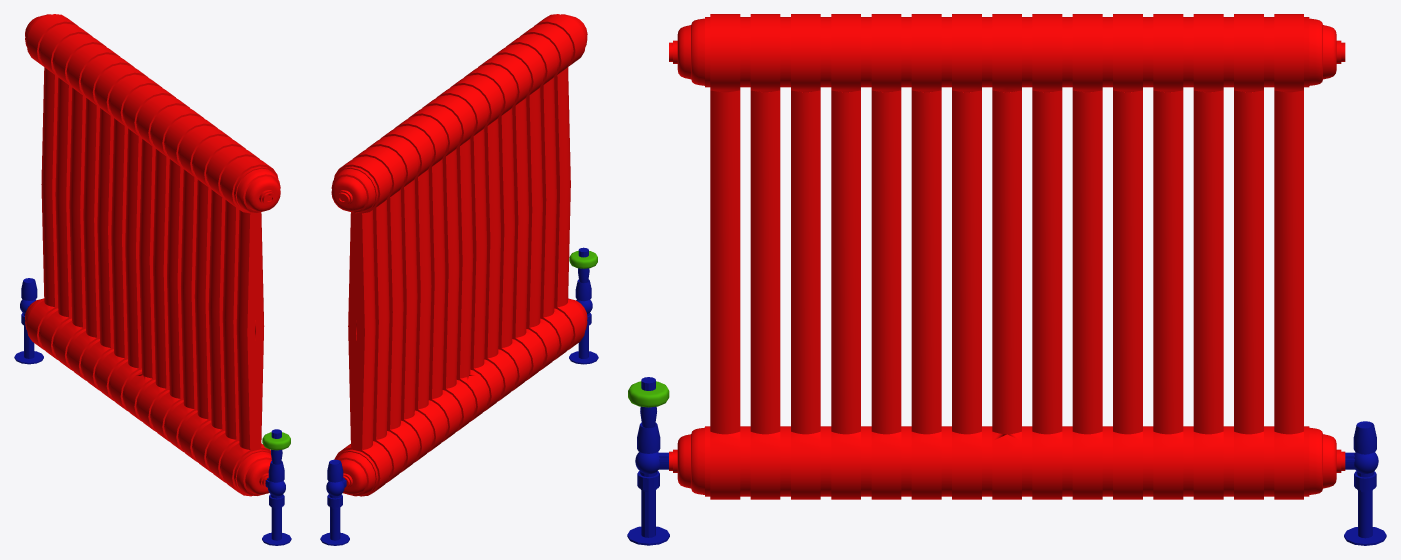
Rendered from radiator parts.FBX.
3 views of the same model, side by side, from view 1: azimuth 30°, elevation 25°; view 2: azimuth 150°, elevation 25°; view 3: azimuth 270°, elevation 25° (orthographic). The views are drawn at different scales.
Visible parts, largest first — view 1: Cylinder001, Cylinder002, Object003; view 2: Cylinder001, Cylinder002, Object003; view 3: Cylinder001, Cylinder002, Object003.
Part boxes in pixels (left/top/right/bottom): Cylinder001: left=25, top=14, right=280, bottom=496; Cylinder002: left=262, top=429, right=291, bottom=545; Object003: left=14, top=278, right=43, bottom=364; Cylinder001: left=331, top=14, right=587, bottom=496; Cylinder002: left=569, top=247, right=598, bottom=364; Object003: left=320, top=459, right=349, bottom=545; Cylinder001: left=669, top=14, right=1345, bottom=499; Cylinder002: left=627, top=377, right=669, bottom=545; Object003: left=1344, top=421, right=1386, bottom=545.
Size of the model in its own units: 3.06 by 22.29 by 29.6.
